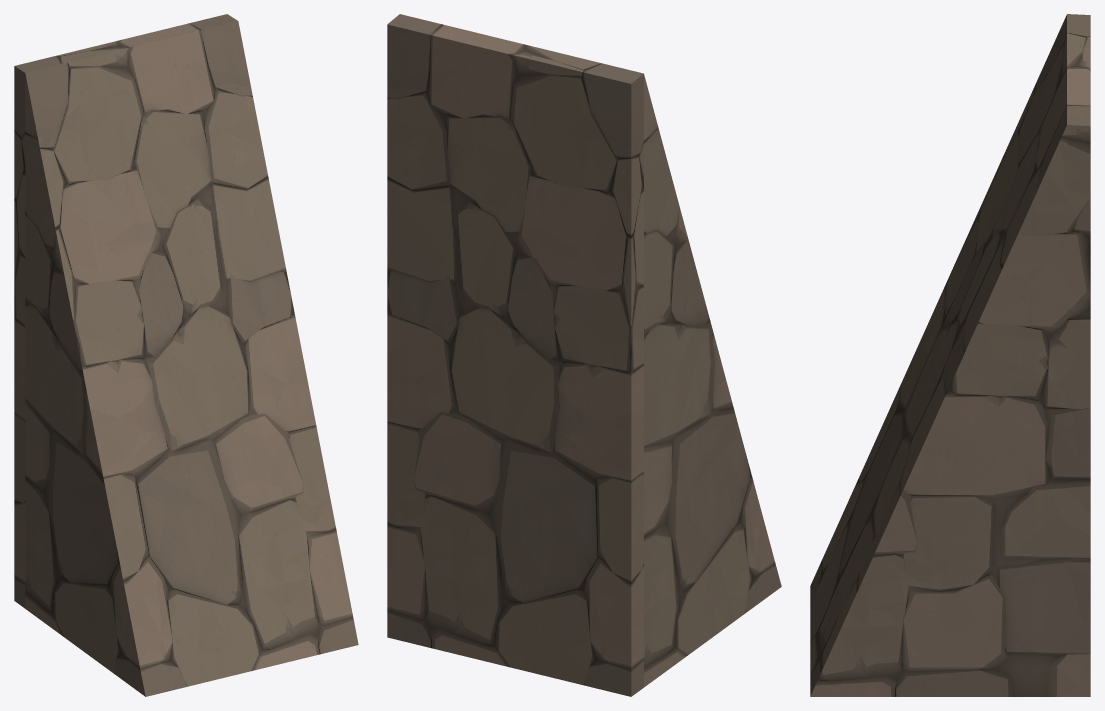
Rendered from SM_Bld_Wall_Slope_Half_01.fbx.
3 renders of one model, left to right at view 1: azimuth 30°, elevation 25°; view 2: azimuth 150°, elevation 25°; view 3: azimuth 270°, elevation 25°, orthographic. The views are drawn at different scales.
Parts seen in each view (by area): view 1: SM_Bld_Wall_Slope_Half_01; view 2: SM_Bld_Wall_Slope_Half_01; view 3: SM_Bld_Wall_Slope_Half_01.
Part boxes in pixels (x1,y1,x2,y2): SM_Bld_Wall_Slope_Half_01: (14,14,358,696); SM_Bld_Wall_Slope_Half_01: (387,14,781,696); SM_Bld_Wall_Slope_Half_01: (810,14,1090,696).
Bounding box in the file's own units: 250 × 601 × 267.
